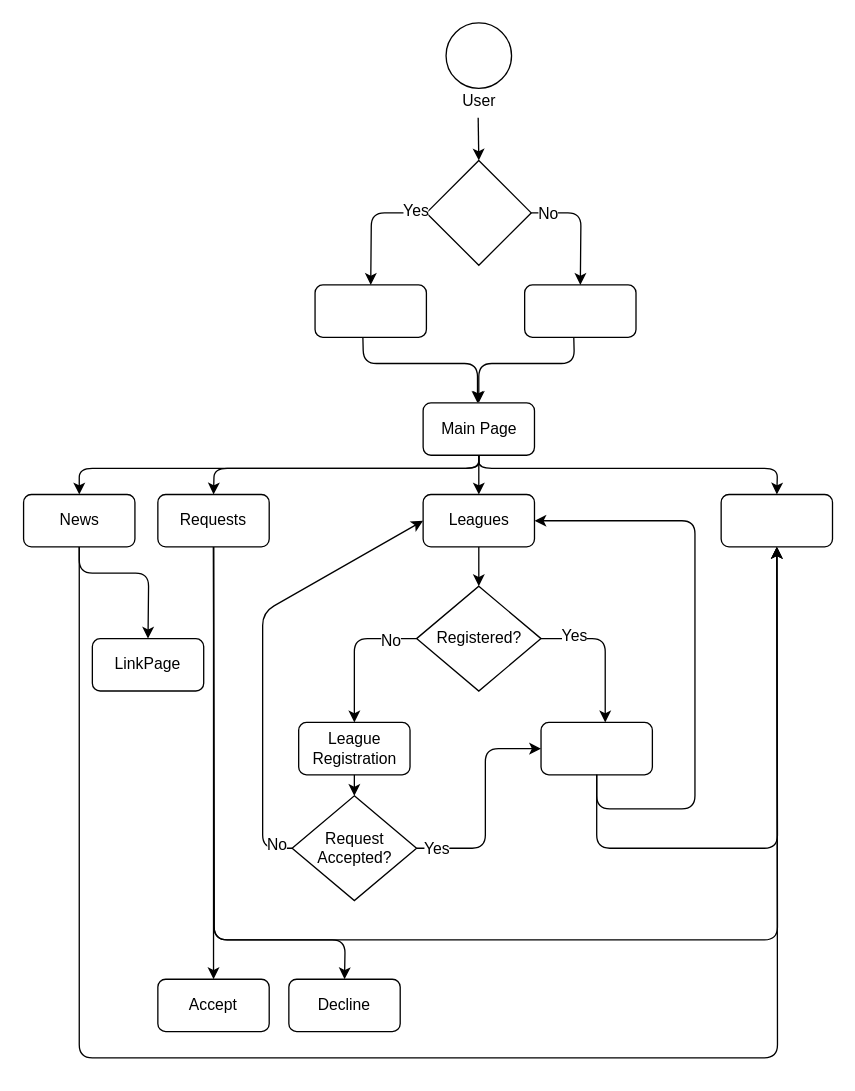
Some shapes in this 855 by 1091 pixel diagram are drawn without their labels. The box of each missing label's shape, as (x1, y1, x2, y2) in pixels:
Logged?: (425, 159, 531, 265)
Login: (314, 284, 426, 337)
Logout: (720, 493, 833, 547)
Register: (523, 284, 636, 337)
Results: (540, 721, 652, 775)
